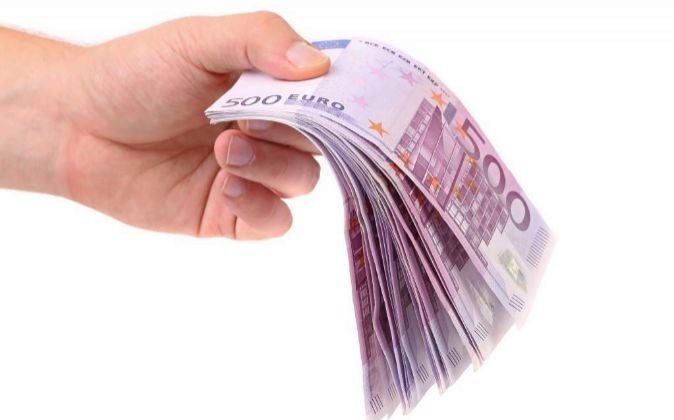billete: (202, 34, 558, 420)
